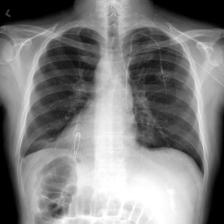normal: (15, 23, 206, 178)
